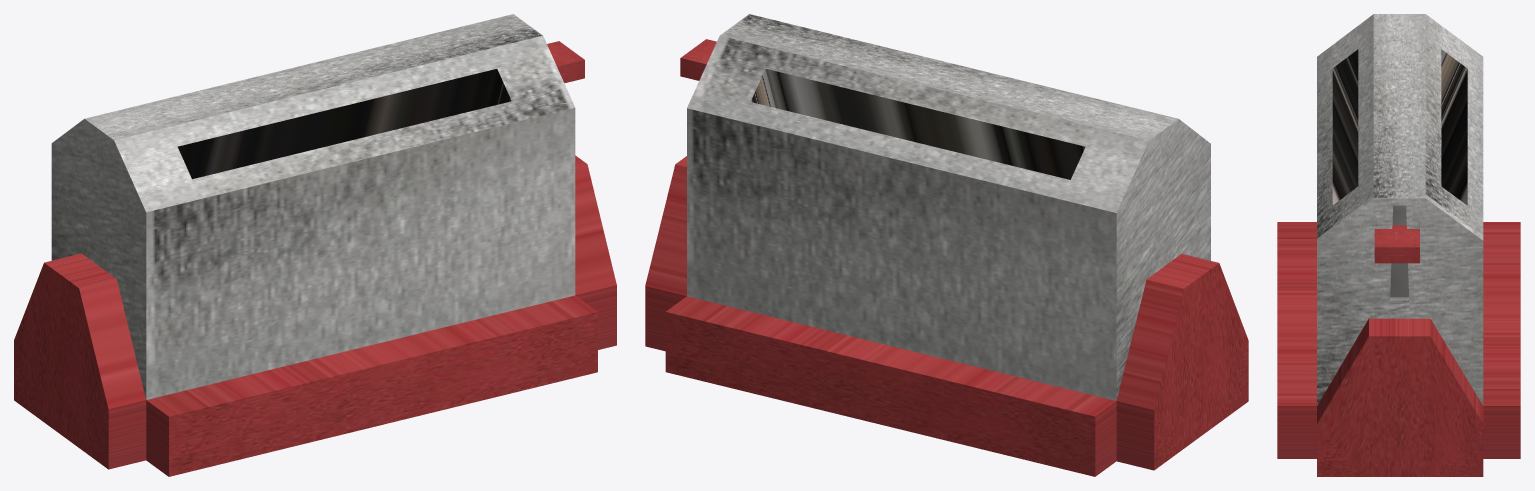
File: toaster.FBX
The picture shows the model from 3 angles, left to right: view 1: azimuth 30°, elevation 25°; view 2: azimuth 150°, elevation 25°; view 3: azimuth 270°, elevation 25°; orthographic projection. The views are drawn at different scales.
Parts seen in each view (by area): view 1: Box001, Object001, Object002, Box002; view 2: Box001, Object001, Object002, Box002; view 3: Box001, Object001, Object002, Box002.
Part boxes in pixels (<box>): Box001: <box>51,14,575,399</box>; Object001: <box>14,155,616,476</box>; Object002: <box>178,69,511,179</box>; Box002: <box>547,41,584,83</box>; Box001: <box>687,14,1210,400</box>; Object001: <box>645,156,1248,476</box>; Object002: <box>750,69,1085,179</box>; Box002: <box>680,39,716,80</box>; Box001: <box>1317,14,1483,405</box>; Object001: <box>1277,222,1520,476</box>; Object002: <box>1332,49,1467,205</box>; Box002: <box>1374,225,1419,263</box>.
Size of the model in its own units: 64.52 by 35.9 by 30.39.
3 materials, 3 textured.
